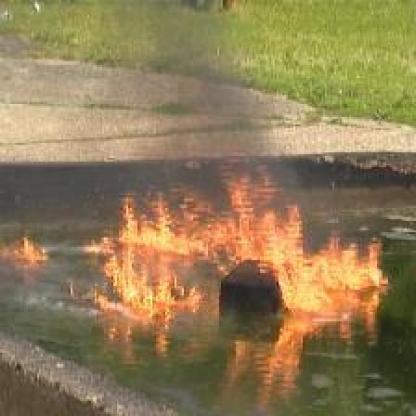fire: (95, 179, 393, 313), (5, 223, 46, 265)
